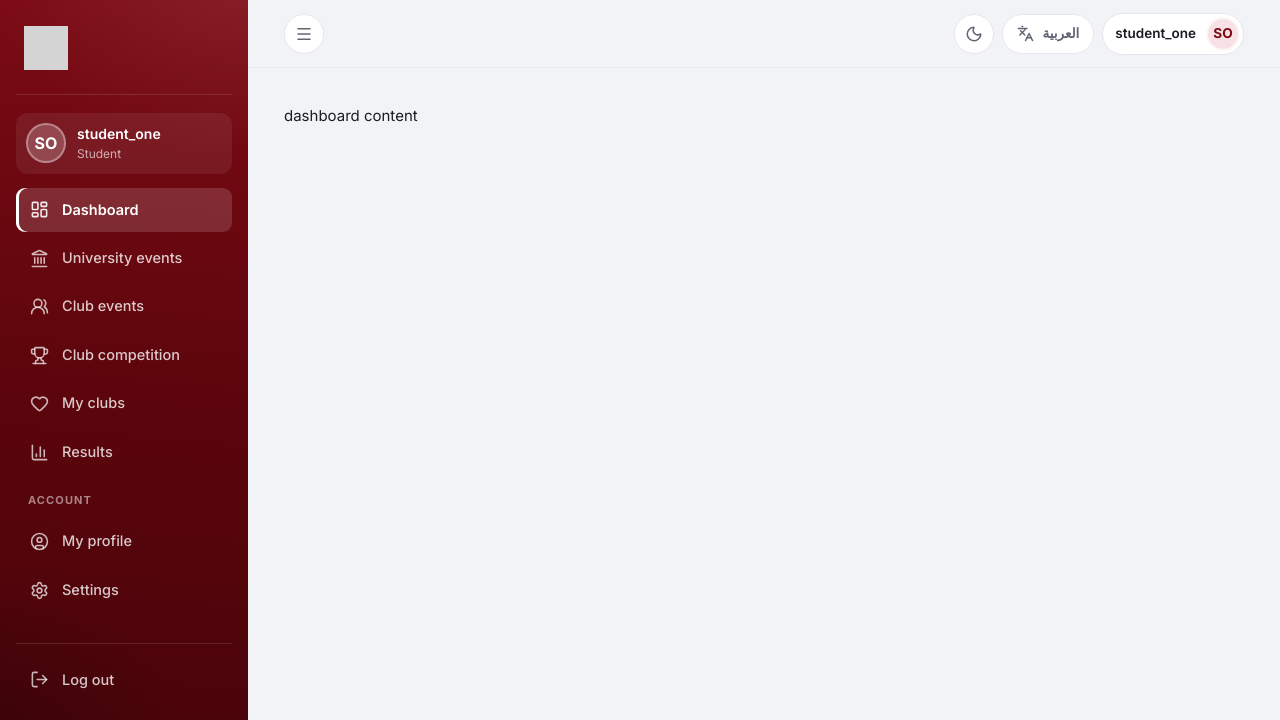
Test: AppShell responsive drawer (narrow screens) › closes after choosing a page and shows that page
Check: the text "dashboard content" is shown, box [284,106,418,125]
Click the button named "Open menu" at (304, 34), box [284,14,324,54]
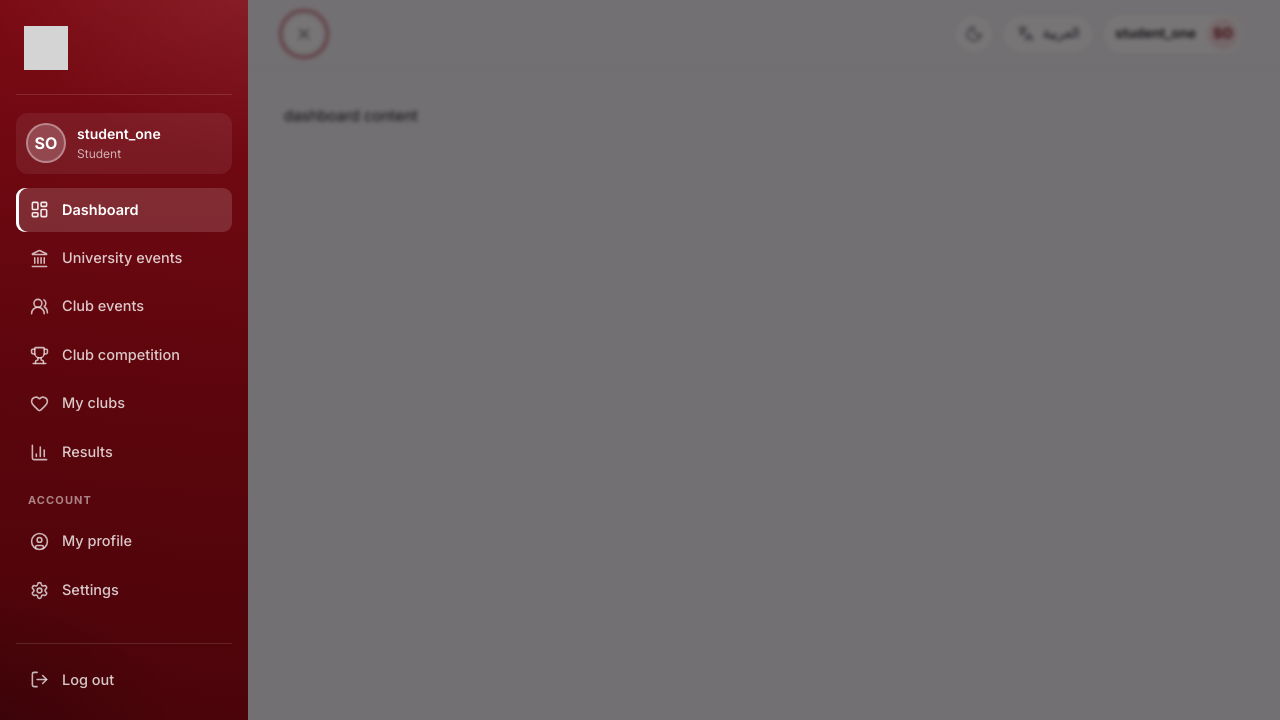
Click the link "University events" at (106, 258), box [30,249,182,268]
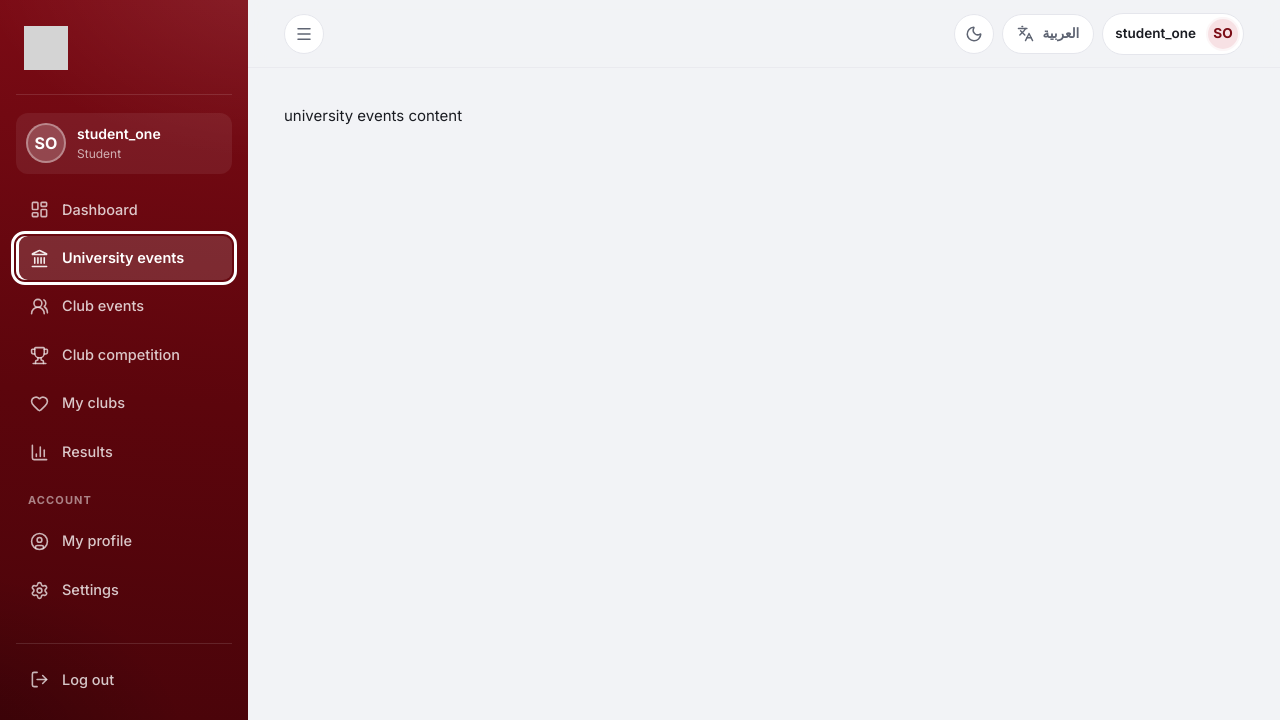
Check: the text "university events content" is shown, box [284,106,462,125]
